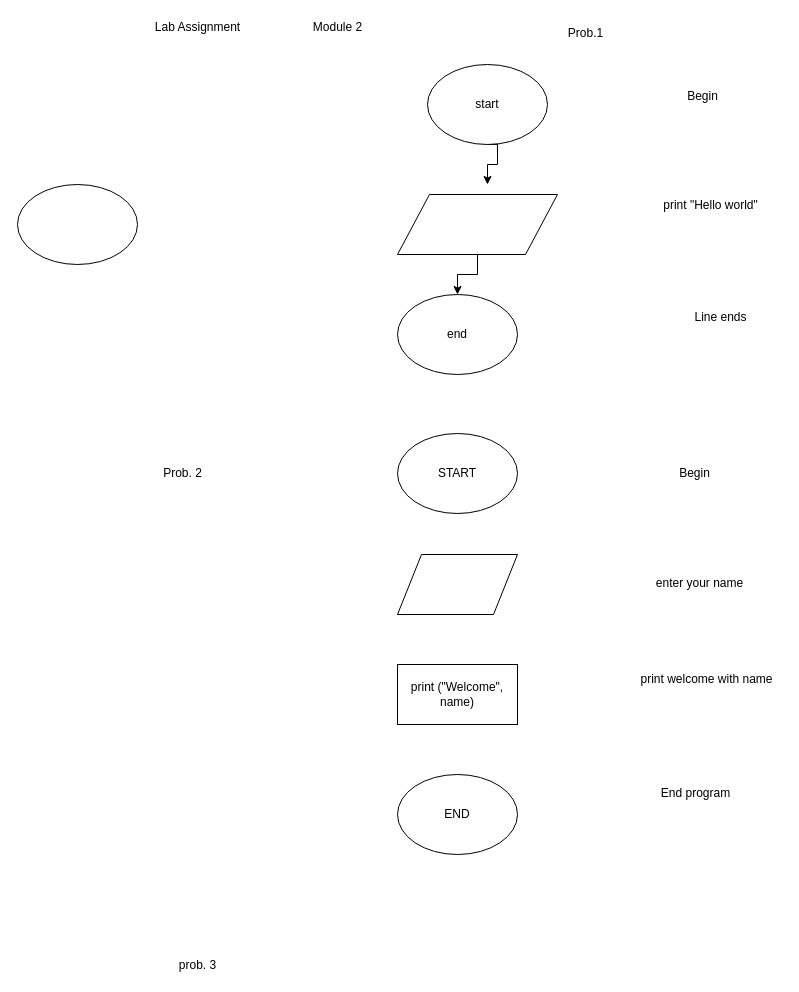
This 799x992 diagram has some shape labels left out. The centre of each missing label's shape, as x and y in pixels:
name = input 'enter your name:': the point at 457,584
print = ("Hello World"): the point at 477,224
